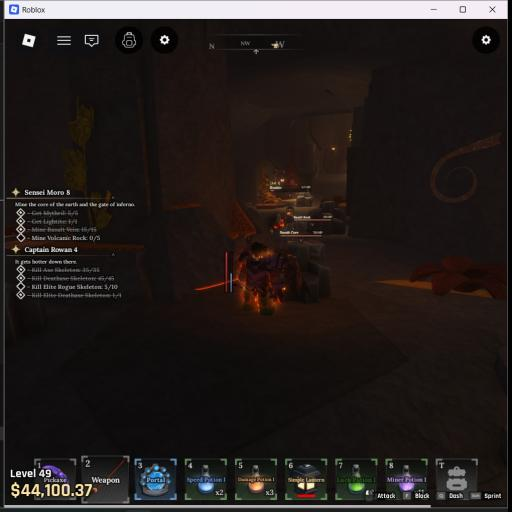player: (237, 242, 308, 315)
rock: (287, 242, 330, 298), (309, 201, 344, 235), (296, 193, 313, 207)
